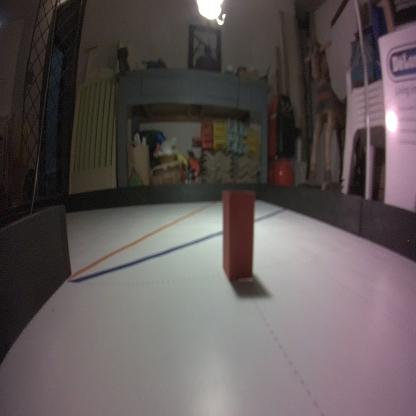red: (220, 188, 256, 280)
